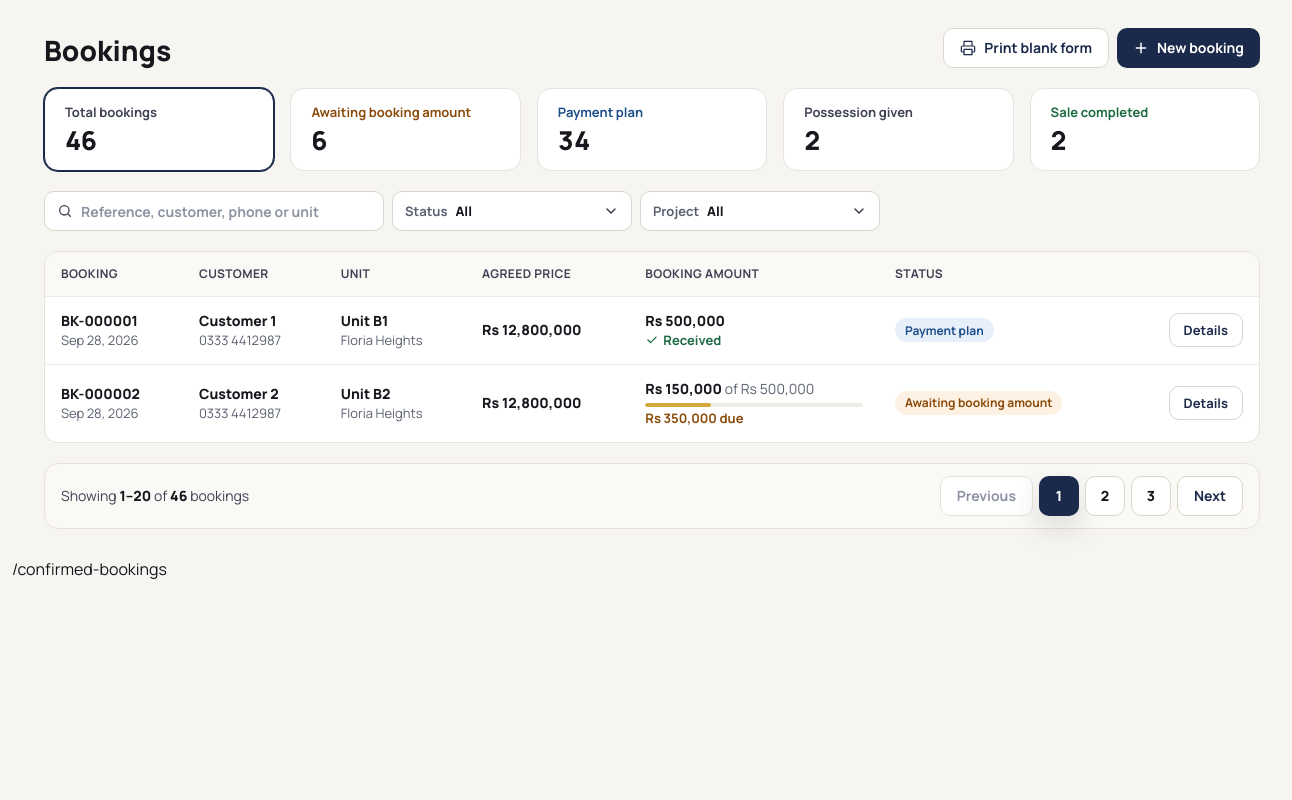
Bookings list › opens the booking when its row is clicked
Click the row named "Open BK-000001" at (652, 330), box [45,296,1259,364]
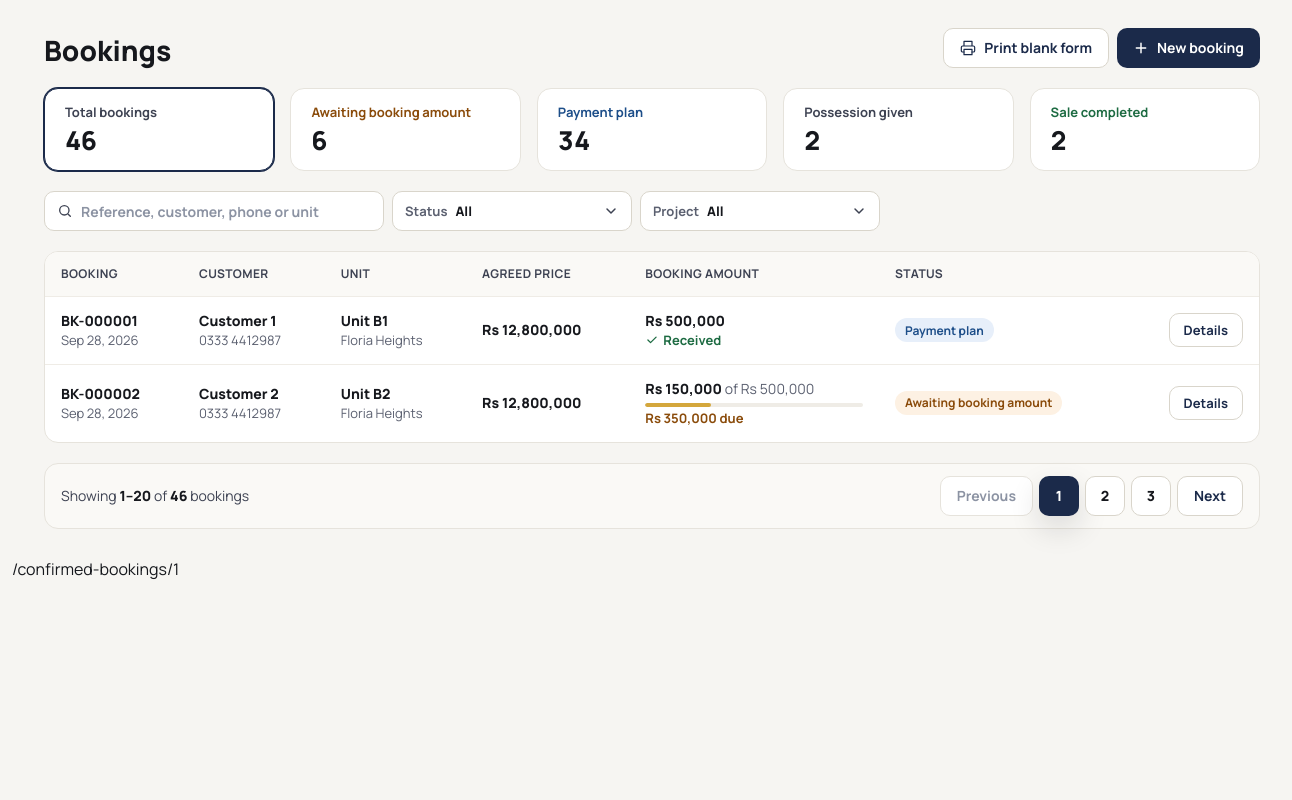
Expected: the text with test id "where" reads "/confirmed-bookings/1", [12,558,179,580]
